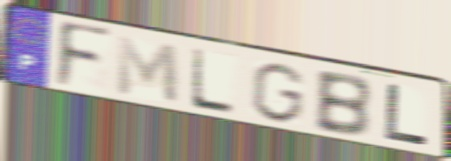B: (312, 70, 374, 140)
F: (52, 18, 115, 92)
G: (248, 61, 308, 126)
L: (188, 46, 238, 118), (382, 81, 431, 150)
M: (115, 34, 182, 108)
